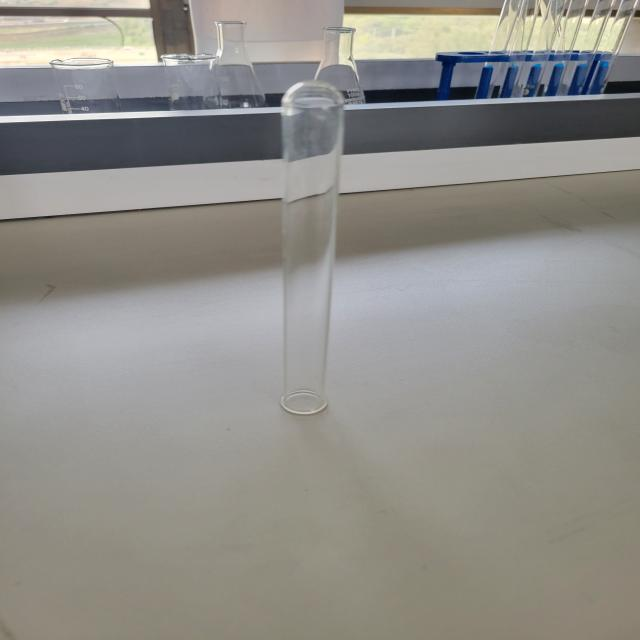Test_Tube: (231, 48, 396, 442)
